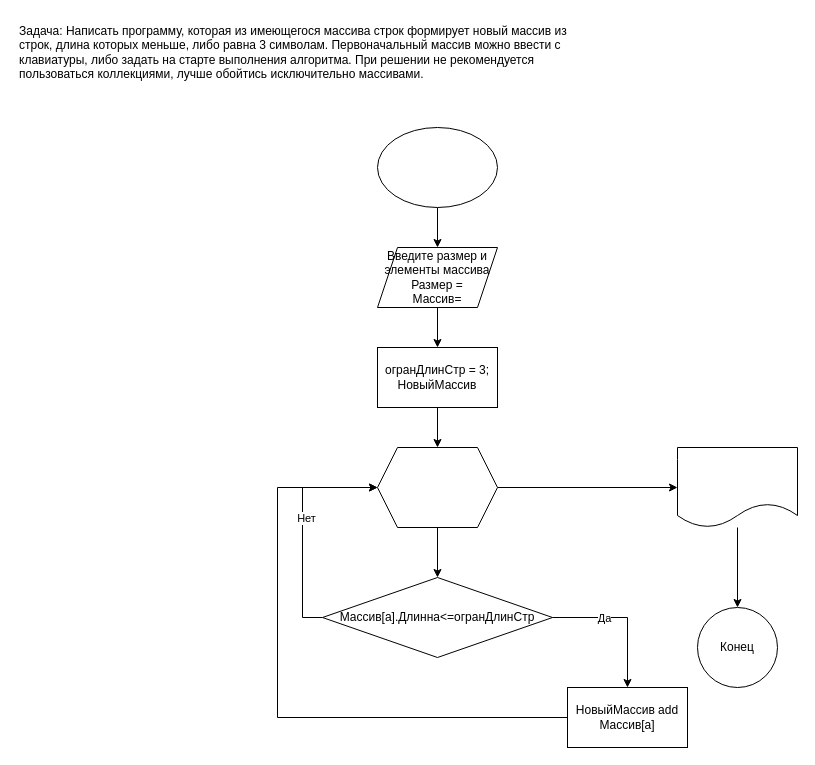
The diagram is 815 pixels wide and 765 high, and some of its shapes have lost their labels. The centre of each missing label's shape, as x and y in pixels:
а=0; а<Размер; 1: the point at 437,487
НовыйМассив: the point at 737,487
Старт: the point at 437,167
